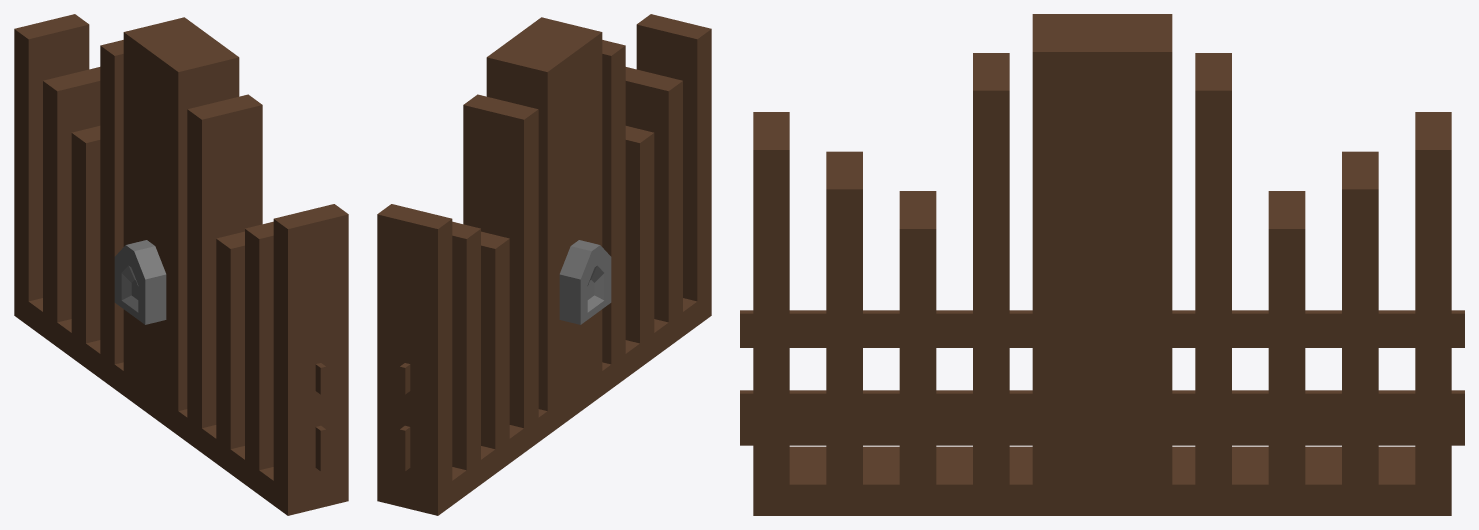
File: Gate.fbx
3 renders of one model, left to right at view 1: azimuth 30°, elevation 25°; view 2: azimuth 150°, elevation 25°; view 3: azimuth 270°, elevation 25°, orthographic. The views are drawn at different scales.
Parts seen in each view (by area): view 1: Gate; view 2: Gate; view 3: Gate.
Part boxes in pixels (left/top/right/bottom): Gate: left=14, top=14, right=348, bottom=515; Gate: left=377, top=14, right=711, bottom=515; Gate: left=740, top=14, right=1464, bottom=515.
Bounding box in the file's own units: 139 × 588 × 832.
